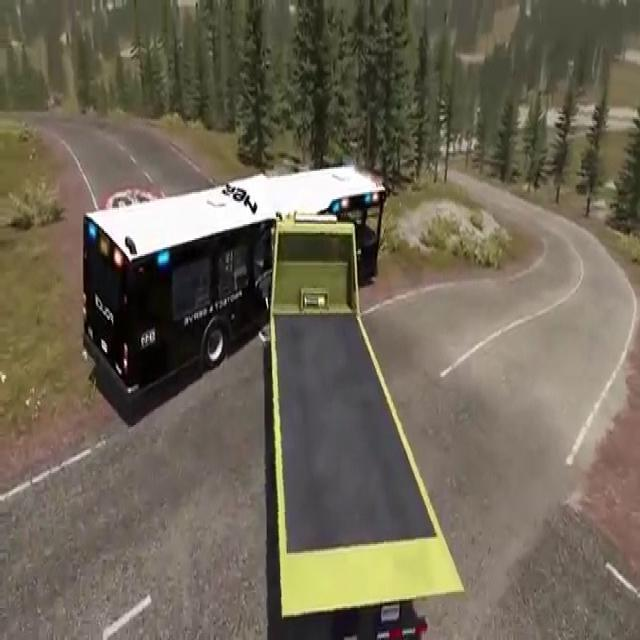accident: (71, 142, 479, 640)
